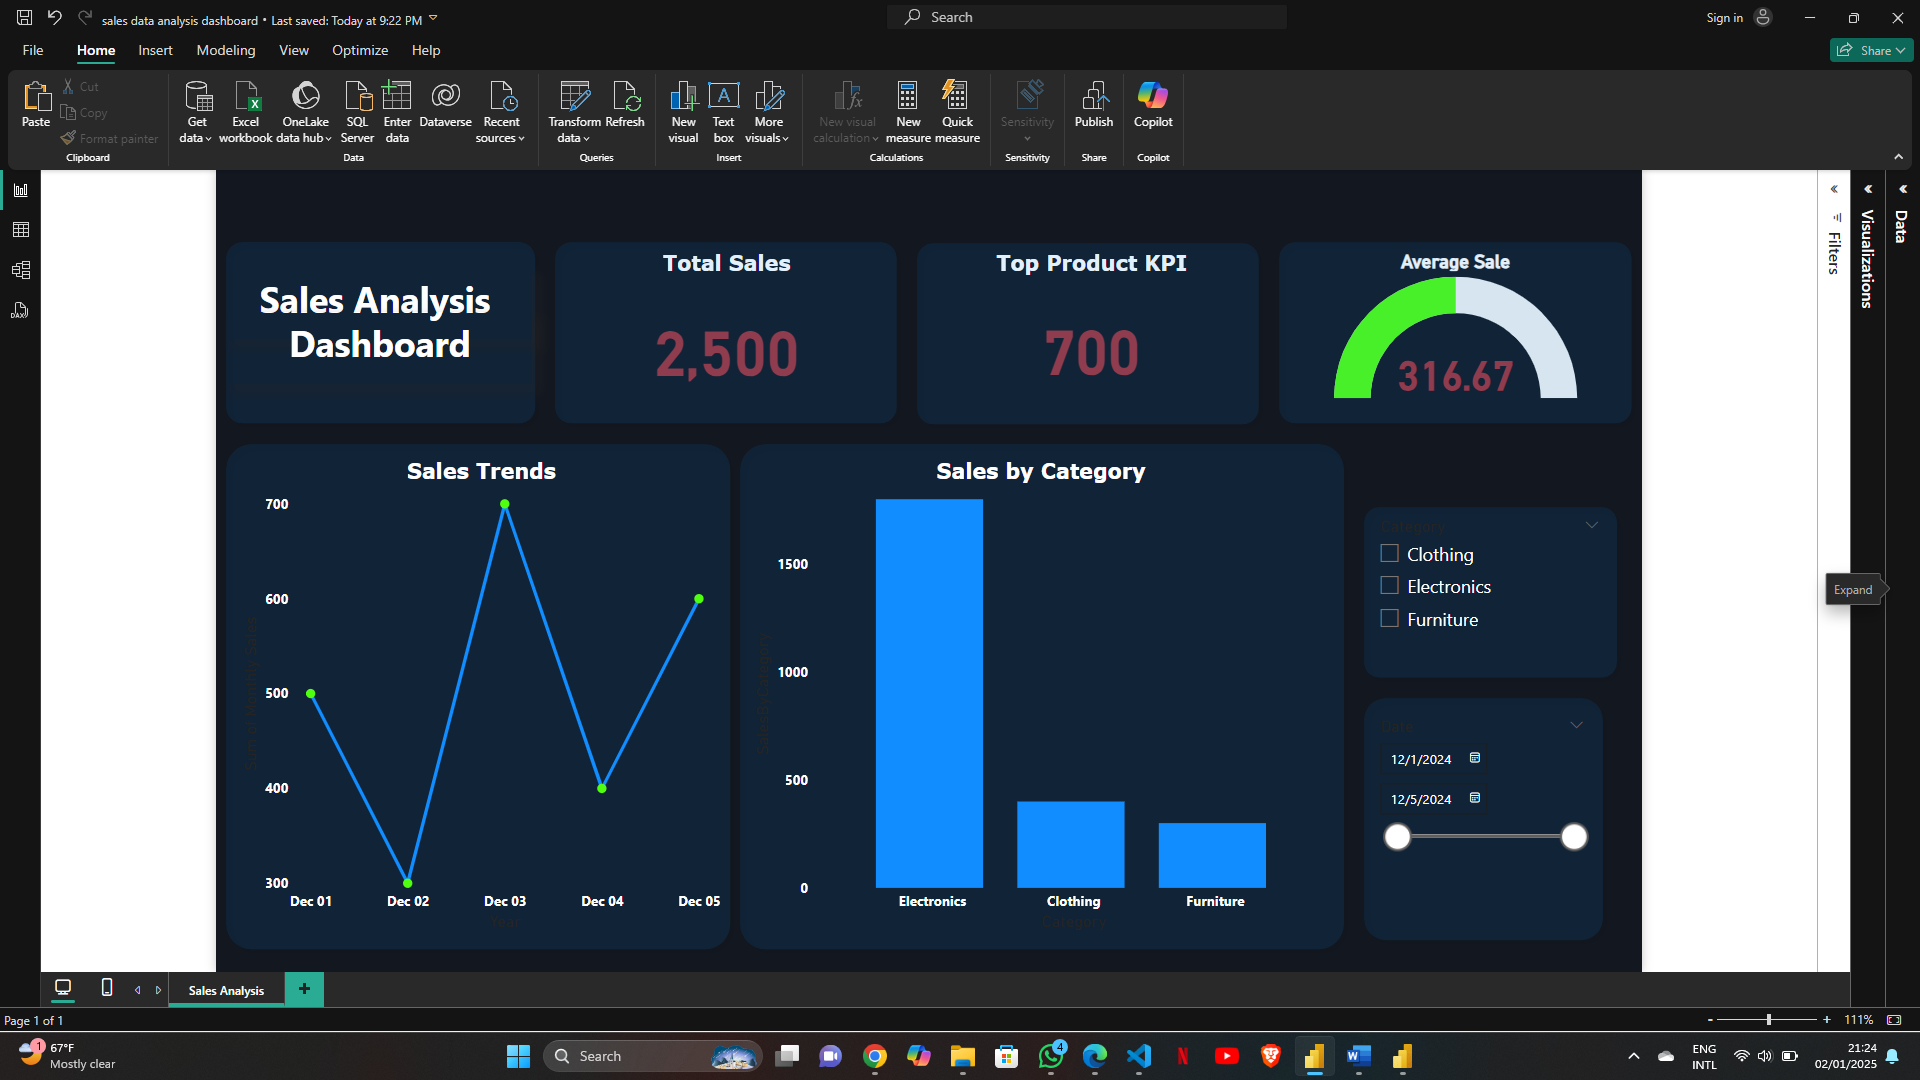

Layout of this report page (visuals, bound fields, positions):
{"tool":"powerbi","page":{"name":"Sales Analysis","canvas":[1280,720],"ordinal":0},"visuals":[{"type":"shape","box":[0,55.4,295.7,180.9],"z":0,"group":"g1"},{"type":"card","title":"Total Sales","fields":{"Values":["Measures (3).Total Sales"]},"box":[310.3,71.9,295.7,149.8],"z":1000,"group":"g1"},{"type":"card","title":"Top Product KPI","fields":{"Values":["Measures (3).TopProductBySales"]},"box":[640,71.9,291.8,146.9],"z":2000,"group":"g1"},{"type":"gauge","title":"Average Sale","fields":{"Y":["Measures (3).AverageSalePerProduct"]},"box":[960,71.9,306.4,138.1],"z":3000,"group":"g1"},{"type":"textbox","box":[9.7,87.5,274.3,64.2],"z":4000,"group":"g1"},{"type":"textbox","box":[9.7,127.4,274.3,65.2],"z":5000,"group":"g1"},{"type":"shape","box":[295.7,55.4,324.9,180.9],"z":6000,"group":"g1"},{"type":"shape","box":[620.5,56.4,324.9,180.9],"z":7000,"group":"g1"},{"type":"shape","box":[945.4,55.4,334.6,180.9],"z":8000,"group":"g1"},{"type":"shape","box":[0,236.3,470.8,471.7],"z":9000,"group":"g1"},{"type":"lineChart","title":"Sales Trends","fields":{"Y":["Sum(MonthlySales.Monthly Sales)"],"Category":["MonthlySales.Date.Variation.Date Hierarchy.Year","MonthlySales.Date.Variation.Date Hierarchy.Month","MonthlySales.Date.Variation.Date Hierarchy.Day"]},"box":[17.5,258.7,440.6,428.9],"z":10000,"group":"g1"},{"type":"shape","box":[461,236.3,560.2,471.7],"z":11000,"group":"g1"},{"type":"clusteredColumnChart","title":"Sales by Category","fields":{"Y":["Measures (3).SalesByCategory"],"Category":["sales data.Category"]},"box":[477.6,258.7,526.2,428.9],"z":12000,"group":"g1"},{"type":"shape","box":[1021.3,293.7,245.1,171.2],"z":13000,"group":"g1"},{"type":"slicer","fields":{"Values":["sales data.Category"]},"box":[1032,306.3,221.8,144],"z":13001,"group":"g1"},{"type":"shape","box":[1021.3,464.9,232.5,235.4],"z":13002,"group":"g1"},{"type":"slicer","fields":{"Values":["MonthlySales.Date"]},"box":[1032,486.3,208.1,193.6],"z":13003,"group":"g1"},{"type":"group","id":"g1","title":"Group 1","box":[0,55.4,1280,652.6],"z":13004}]}

Visuals, with their boxes on the page's 1280x720 design canvas (x1, y1, x2, y2). These are canvas units, not pixel positions in the 1920x1080 screenshot, which may show the page scaled, cropped or inside an application window:
shape: [0,55,296,236]
"Total Sales" card: [310,72,606,222]
"Top Product KPI" card: [640,72,932,219]
"Average Sale" gauge: [960,72,1266,210]
textbox: [10,88,284,152]
textbox: [10,127,284,193]
shape: [296,55,621,236]
shape: [620,56,945,237]
shape: [945,55,1280,236]
shape: [0,236,471,708]
"Sales Trends" lineChart: [18,259,458,688]
shape: [461,236,1021,708]
"Sales by Category" clusteredColumnChart: [478,259,1004,688]
shape: [1021,294,1266,465]
slicer - sales data.Category: [1032,306,1254,450]
shape: [1021,465,1254,700]
slicer - MonthlySales.Date: [1032,486,1240,680]
"Group 1" group: [0,55,1280,708]
